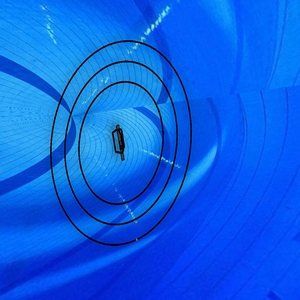circle: (49, 39, 201, 256)
submarine: (110, 121, 133, 162)
